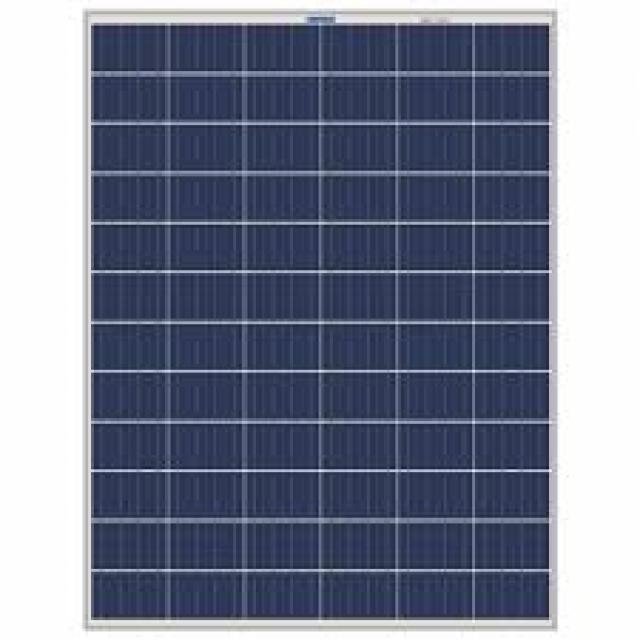Solar: (82, 14, 546, 627)
